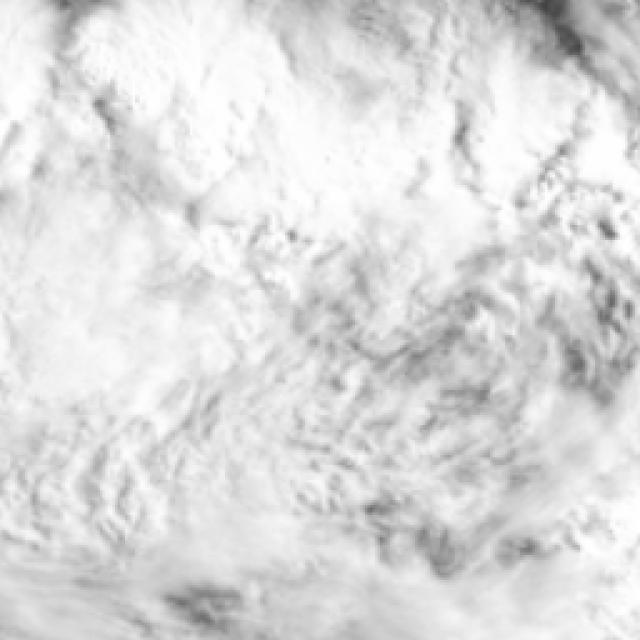CB: (16, 205, 159, 389), (75, 2, 262, 109)
